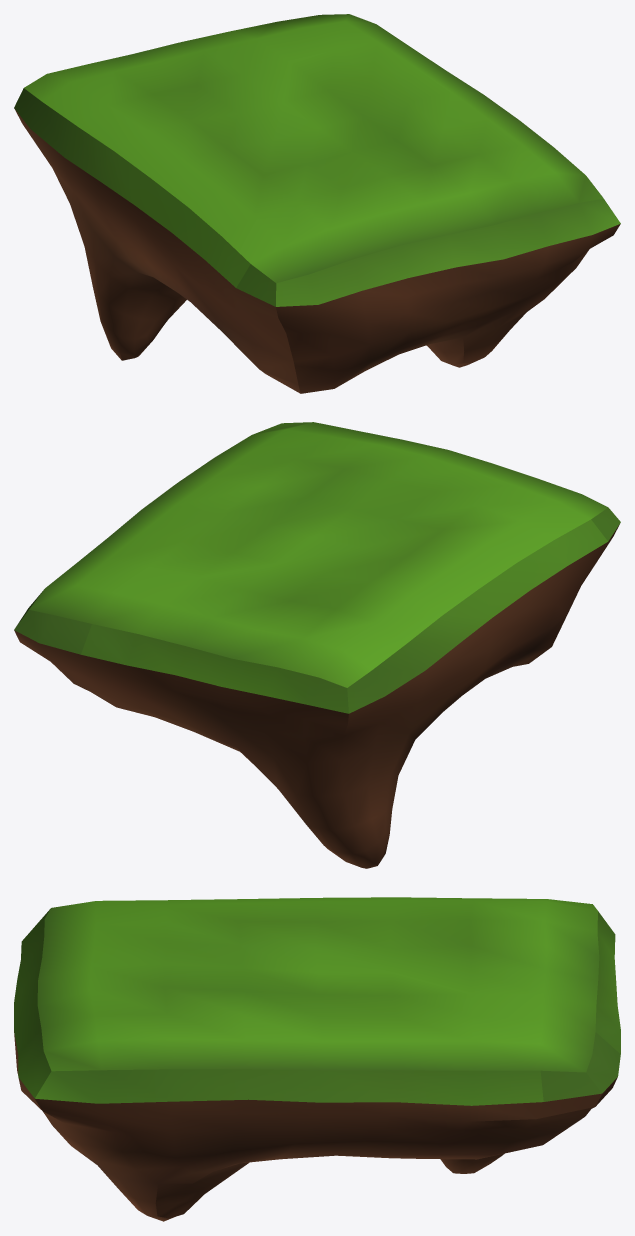
File: DirtPlatform2.fbx
3 renders of one model, top to bottom at view 1: azimuth 30°, elevation 25°; view 2: azimuth 150°, elevation 25°; view 3: azimuth 270°, elevation 25°, orthographic. The views are drawn at different scales.
Parts seen in each view (by area): view 1: DirtPlatform2; view 2: DirtPlatform2; view 3: DirtPlatform2.
Part boxes in pixels (x1,y1,x2,y2): DirtPlatform2: [14, 14, 620, 393]; DirtPlatform2: [14, 422, 620, 868]; DirtPlatform2: [14, 897, 620, 1221].
Bounding box in the file's own units: 415 × 273 × 554.
